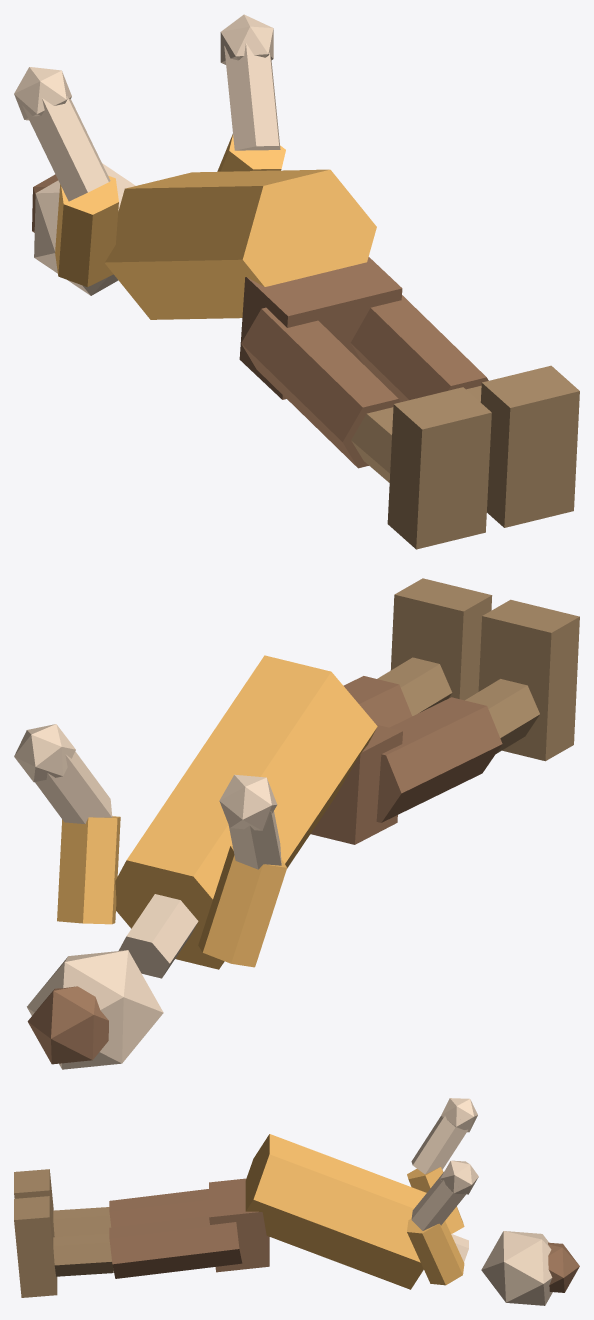
Rendered from pose_dodge_roll_31.glb.
The picture shows the model from 3 angles, top to bottom: view 1: azimuth 30°, elevation 25°; view 2: azimuth 150°, elevation 25°; view 3: azimuth 270°, elevation 25°; orthographic projection. The views are drawn at different scales.
Parts seen in each view (by area): view 1: pose; view 2: pose; view 3: pose.
Part boxes in pixels (bbox=[...]): pose: bbox=[14, 14, 579, 549]; pose: bbox=[14, 578, 579, 1069]; pose: bbox=[14, 1098, 579, 1305].
Bounding box in the file's own units: 0.5082 × 0.5271 × 1.57.
